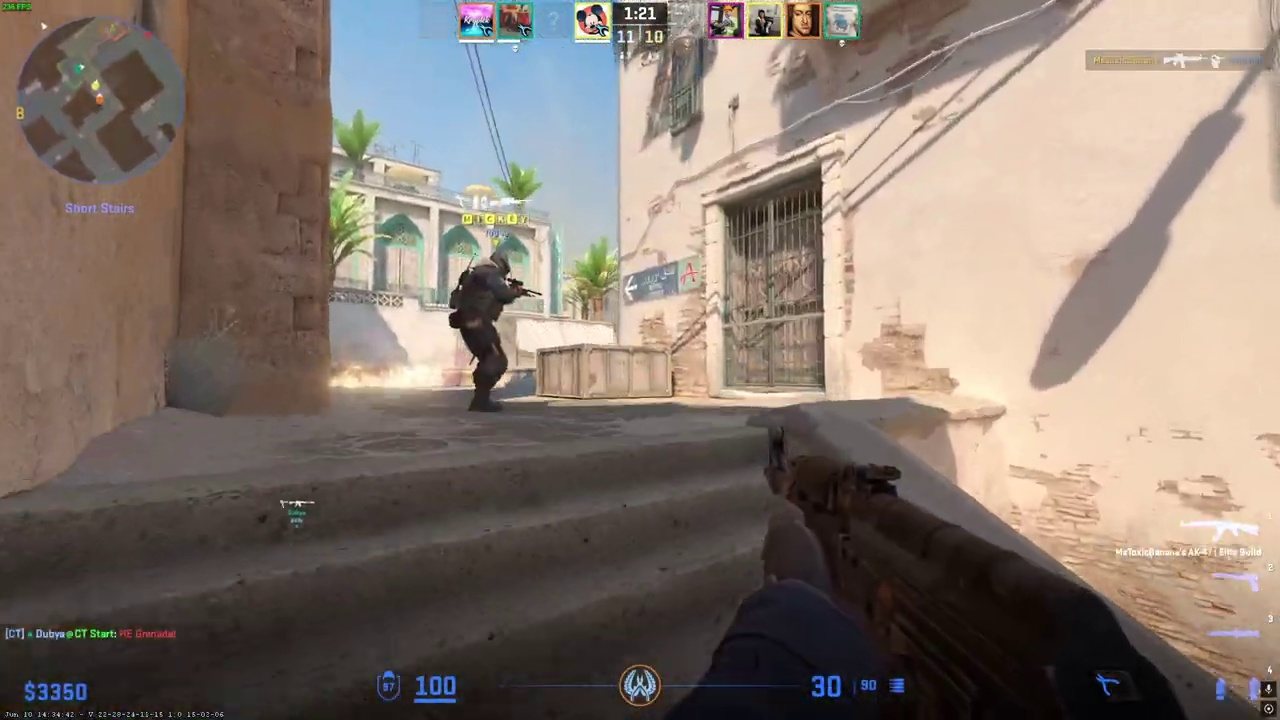CT: (453, 252, 518, 413)
